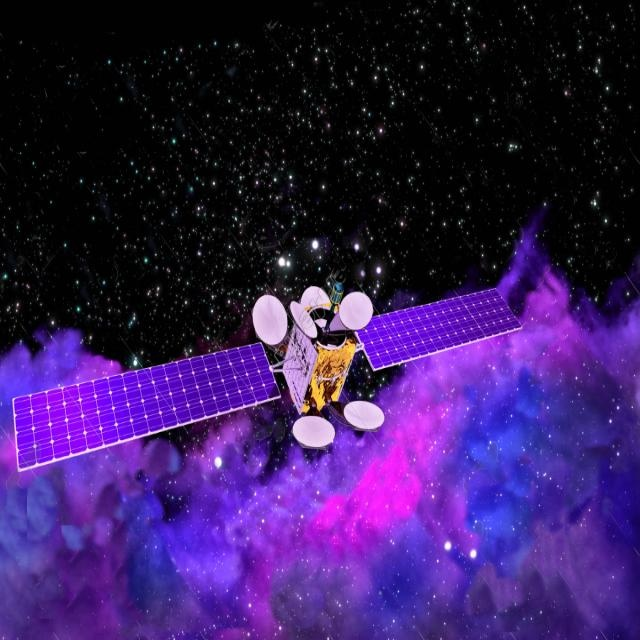satellite: (0, 268, 540, 477)
